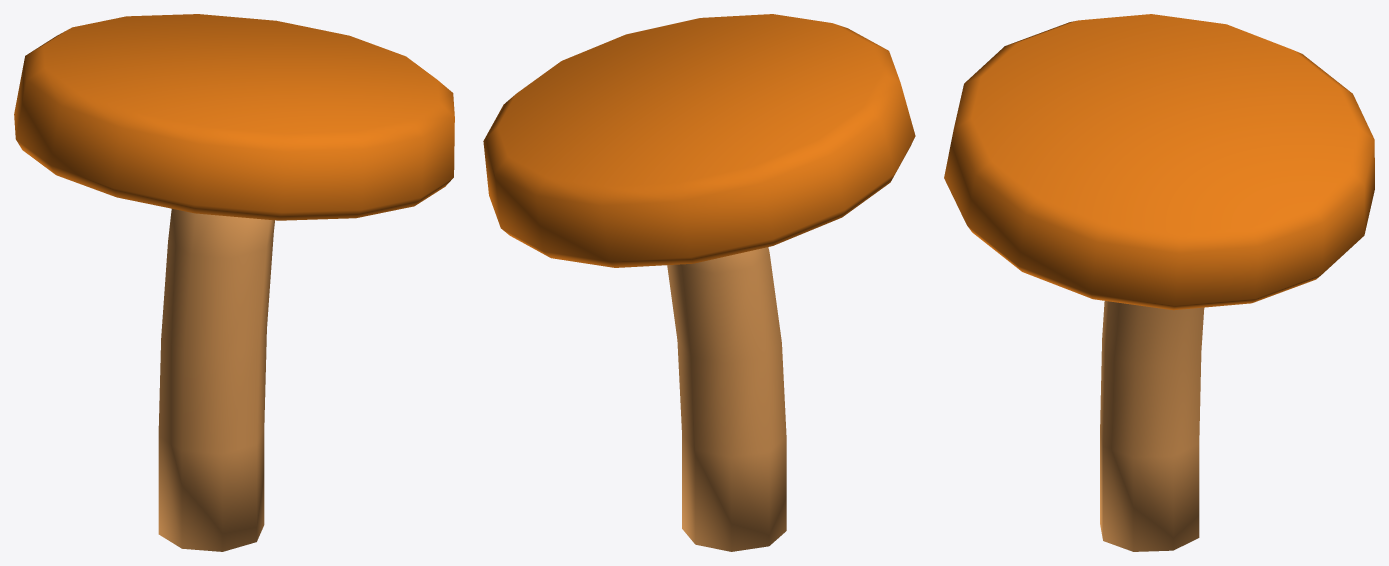
File: PauninnikMushroom.fbx
3 views of the same model, side by side, from view 1: azimuth 30°, elevation 25°; view 2: azimuth 150°, elevation 25°; view 3: azimuth 270°, elevation 25° (orthographic). The views are drawn at different scales.
Visible parts, largest first — view 1: Cylinder.012; view 2: Cylinder.012; view 3: Cylinder.012.
Boxes of the visible parts, x1,y1,x2,y2 form: Cylinder.012: (14,14,454,551); Cylinder.012: (483,14,915,551); Cylinder.012: (944,14,1374,551).
Bounding box in the file's own units: 16.62 × 19.41 × 16.62.
